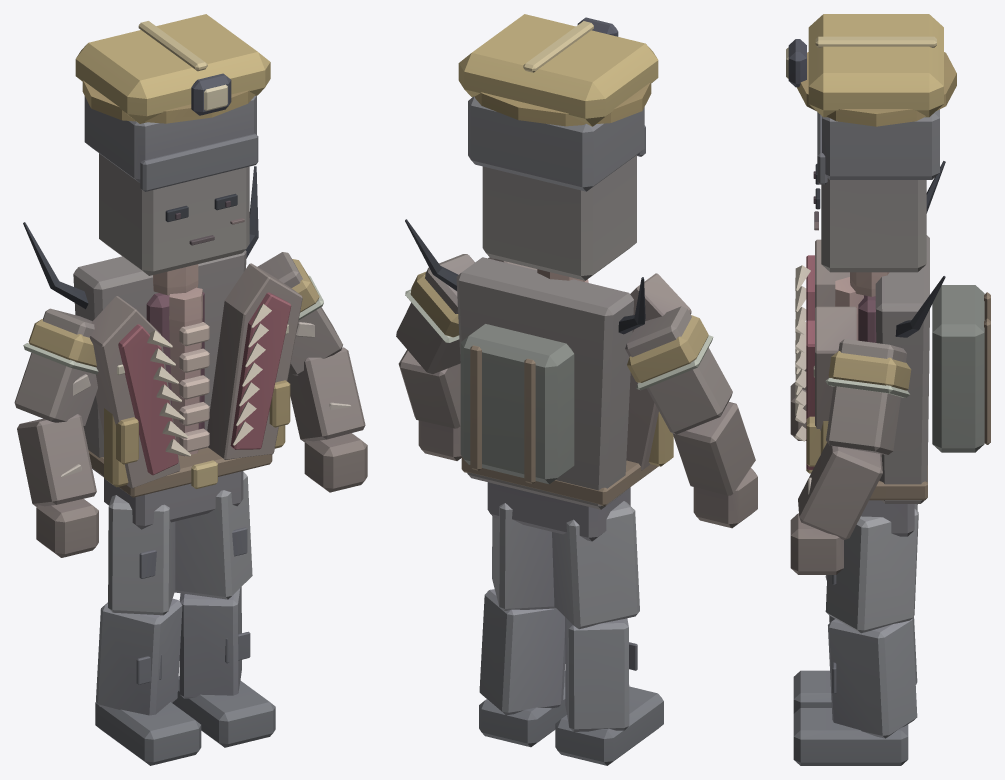
File: AssimilatedAdventurerMiner.glb
3 renders of one model, left to right at view 1: azimuth 30°, elevation 25°; view 2: azimuth 150°, elevation 25°; view 3: azimuth 270°, elevation 25°, orthographic. The views are drawn at different scales.
Parts seen in each view (by area): view 1: Body, Head, LegR, LegL, ArmR, ArmL, TendrilR, TendrilL; view 2: Body, Head, LegR, LegL, ArmR, ArmL, TendrilL, TendrilR; view 3: Head, Body, LegL, ArmL, LegR, TendrilL, ArmR.
Part boxes in pixels (bbox=[...]): Body: bbox=[73, 250, 302, 529]; Head: bbox=[75, 14, 270, 295]; LegR: bbox=[95, 495, 201, 765]; LegL: bbox=[172, 472, 275, 747]; ArmR: bbox=[14, 308, 98, 557]; ArmL: bbox=[257, 252, 367, 492]; TendrilR: bbox=[23, 222, 88, 309]; TendrilL: bbox=[245, 166, 258, 258]; Body: bbox=[456, 257, 691, 541]; Head: bbox=[458, 14, 658, 281]; LegR: bbox=[552, 501, 663, 765]; LegL: bbox=[479, 503, 566, 747]; ArmR: bbox=[625, 306, 757, 528]; ArmL: bbox=[396, 254, 474, 460]; TendrilL: bbox=[405, 219, 458, 290]; TendrilR: bbox=[618, 277, 645, 334]; Head: bbox=[786, 14, 956, 296]; Body: bbox=[795, 235, 990, 536]; LegL: bbox=[793, 509, 918, 765]; ArmL: bbox=[790, 339, 911, 574]; LegR: bbox=[793, 504, 917, 713]; TendrilL: bbox=[895, 276, 945, 337]; ArmR: bbox=[790, 369, 806, 440].
Size of the model in its own units: 3.24 by 6.65 by 1.77.
